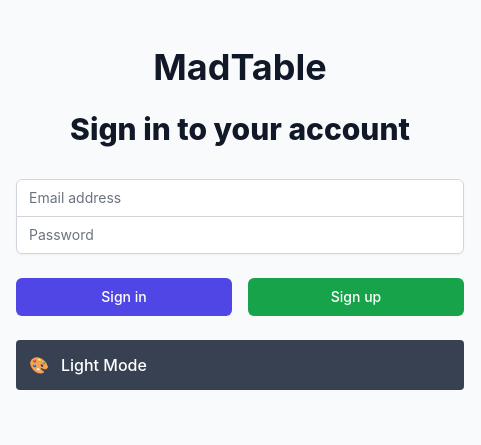
Test case: Login › handles sign in error
The width and height of the screenshot is (481, 445).
Type "test@example.com" into the field with placeholder "Email address" at [240, 198], box left=16, top=178, right=464, bottom=216
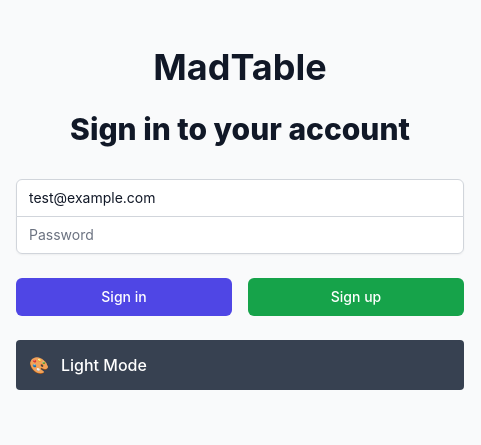
Type "wrong" into the password field with placeholder "Password" at [240, 234], box left=16, top=216, right=464, bottom=254
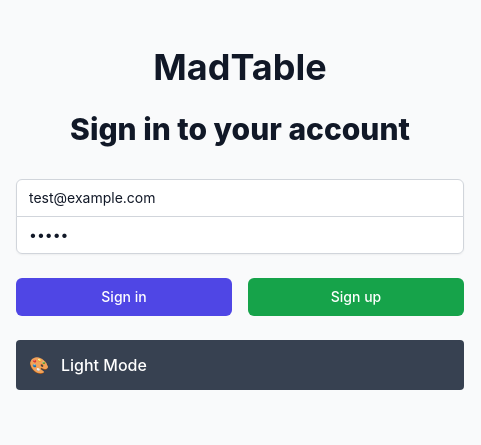
Click the button "Sign in" at [124, 296], box left=16, top=278, right=232, bottom=316
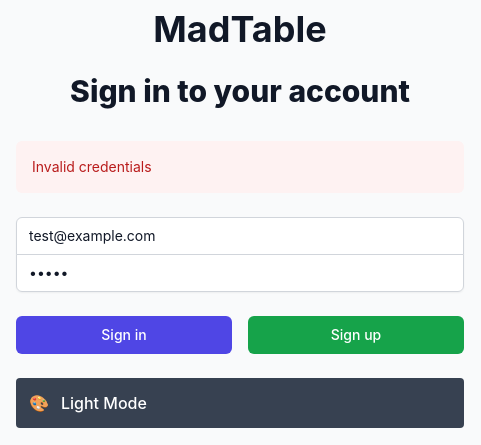
Result: the text "Invalid credentials" is shown at left=32, top=158, right=152, bottom=174
